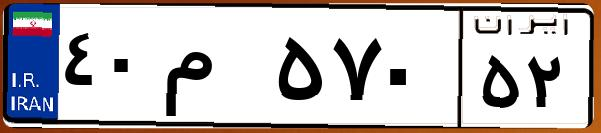0: (385, 28, 445, 110), (110, 28, 158, 98)
2: (525, 38, 570, 115)
4: (57, 26, 110, 100)
5: (270, 28, 330, 110), (475, 38, 525, 113)
7: (330, 28, 385, 110)
م: (158, 20, 270, 120)
